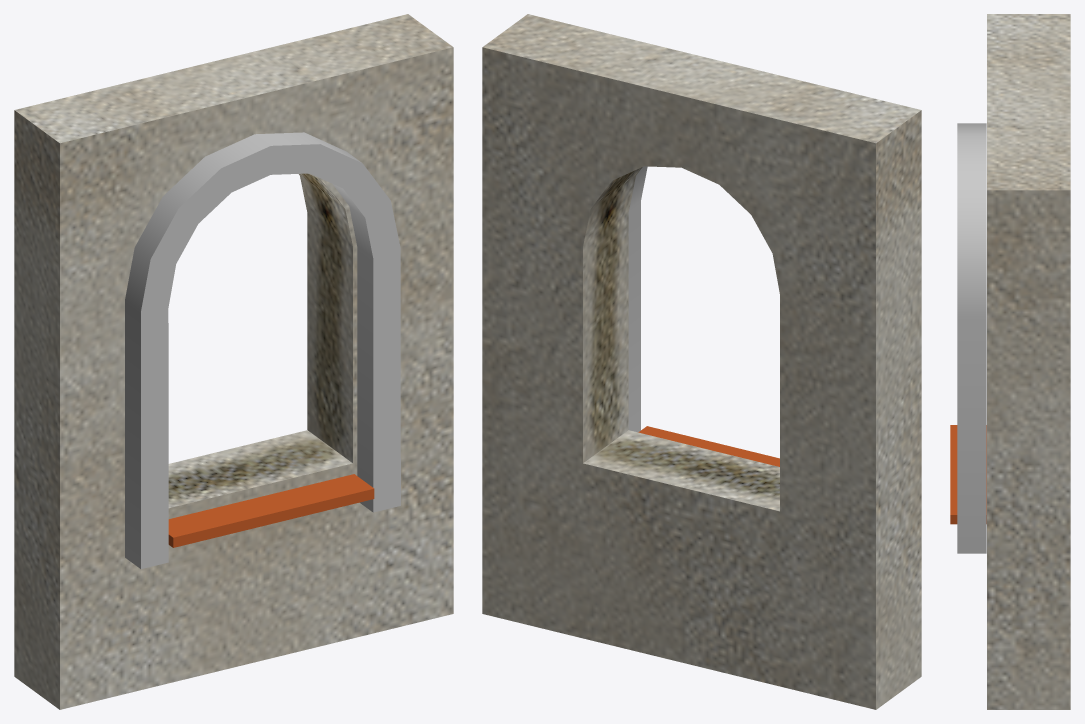
The model's file is WindowRound.fbx.
3 renders of one model, left to right at view 1: azimuth 30°, elevation 25°; view 2: azimuth 150°, elevation 25°; view 3: azimuth 270°, elevation 25°, orthographic. The views are drawn at different scales.
Visible parts, largest first — view 1: Wall_2m75, DecorA, DecorB; view 2: Wall_2m75, DecorA, DecorB; view 3: Wall_2m75, DecorA, DecorB.
Part boxes in pixels (x1,y1,x2,y2): Wall_2m75: (14,14,453,709); DecorA: (125,132,400,569); DecorB: (168,474,374,547); Wall_2m75: (482,14,921,709); DecorA: (628,166,647,432); DecorB: (638,426,779,466); Wall_2m75: (987,14,1070,709); DecorA: (957,123,986,553); DecorB: (950,425,986,524).
Bounding box in the file's own units: 200 × 275 × 57.62.
